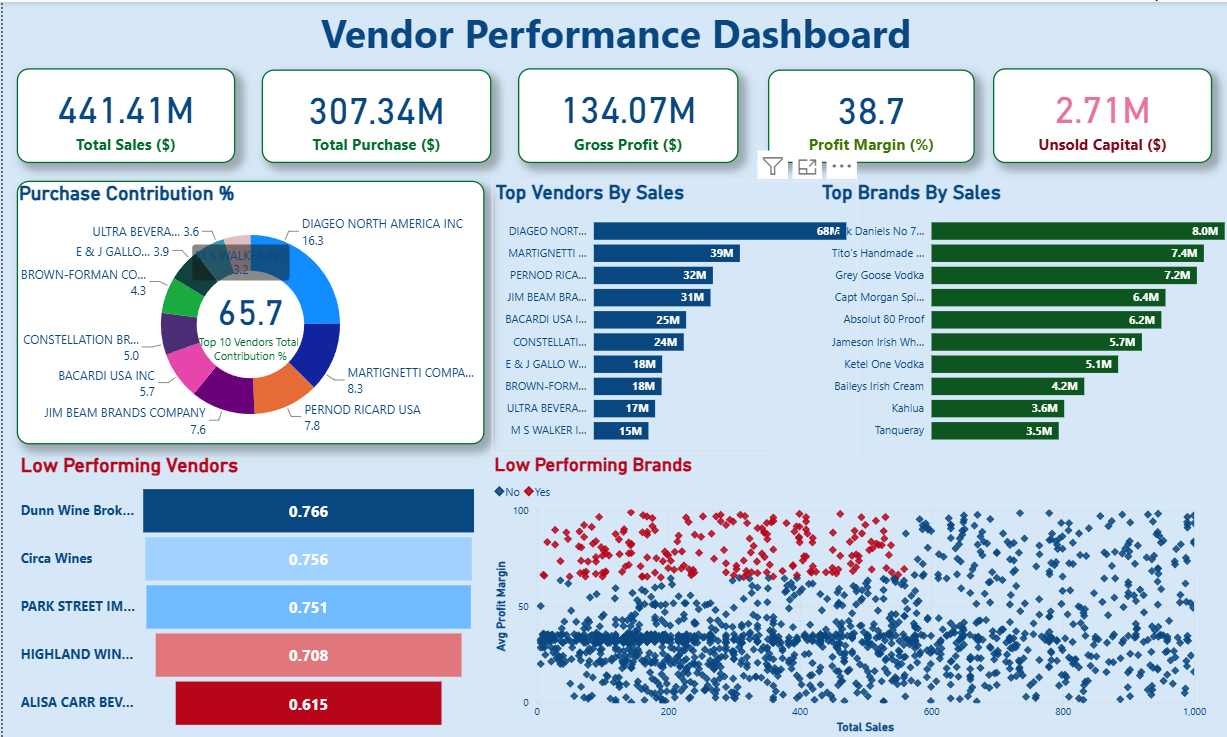

Layout of this report page (visuals, bound fields, positions):
{"tool":"powerbi","page":{"name":"Page 1","canvas":[1500,900],"ordinal":0},"visuals":[{"type":"card","fields":{"Values":["Sum(vendor_sales_summary.TotalPurchaseDollars)"]},"box":[315.8,82.4,280.9,114.6],"z":0},{"type":"card","fields":{"Values":["Sum(vendor_sales_summary.TotalSalesDollars)"]},"box":[16.8,81,266.9,116],"z":1000},{"type":"card","fields":{"Values":["Sum(vendor_sales_summary.GrossProfit)"]},"box":[630.2,81,269.7,116],"z":2000},{"type":"card","fields":{"Values":["Avg(vendor_sales_summary.ProfitMargin)"]},"box":[934.8,82.4,252.9,114.6],"z":3000},{"type":"card","fields":{"Values":["Sum(vendor_sales_summary.UnsoldCapital)"]},"box":[1210.1,81,268.3,116],"z":4000},{"type":"textbox","box":[0,0,1500,83],"z":5000},{"type":"donutChart","title":"Purchase Contribution % ","fields":{"Category":["PurchaseContribution.VendorName"],"Y":["Sum(PurchaseContribution.PurchaseContribution%)"]},"box":[16.8,218.6,571.7,322.5],"z":6000},{"type":"card","fields":{"Values":["Sum(PurchaseContribution.PurchaseContribution%)"]},"box":[221.6,278.2,162,210.9],"z":7000},{"type":"barChart","title":"Top Vendors By Sales","fields":{"Category":["vendor_sales_summary.VendorName"],"Y":["Sum(vendor_sales_summary.TotalSalesDollars)"]},"box":[597.3,219.2,447.9,332.9],"z":8000},{"type":"barChart","title":"Top Brands By Sales","fields":{"Category":["vendor_sales_summary.Description"],"Y":["Sum(vendor_sales_summary.TotalSalesDollars)"]},"box":[995.9,219.2,504.1,332.9],"z":9000},{"type":"funnel","title":"Low Performing Vendors","fields":{"Category":["LowTurnoverVendor.VendorName"],"Y":["Avg(LowTurnoverVendor.AvgStockTurnOver)"]},"box":[16.1,551.6,569.4,348.4],"z":10000},{"type":"scatterChart","title":"Low Performing Brands","fields":{"X":["Sum(BrandPerformance.TotalSales)"],"Y":["Sum(BrandPerformance.AvgProfitMargin)"],"Series":["BrandPerformance.TargetBrand"],"Category":["BrandPerformance.Description"]},"box":[596.8,551.6,880.6,348.4],"z":11000}]}

Visuals, with their boxes in screenshot pixels (x1, y1, x2, y2), scaled from the page's 1500x900 canvas onto the 1227x737 screenshot:
card - Sum(vendor_sales_summary.TotalPurchaseDollars): [258, 67, 488, 161]
card - Sum(vendor_sales_summary.TotalSalesDollars): [14, 66, 232, 161]
card - Sum(vendor_sales_summary.GrossProfit): [516, 66, 736, 161]
card - Avg(vendor_sales_summary.ProfitMargin): [765, 67, 972, 161]
card - Sum(vendor_sales_summary.UnsoldCapital): [990, 66, 1209, 161]
textbox: [0, 0, 1226, 68]
"Purchase Contribution % " donutChart: [14, 179, 481, 443]
card - Sum(PurchaseContribution.PurchaseContribution%): [181, 228, 314, 401]
"Top Vendors By Sales" barChart: [489, 180, 855, 452]
"Top Brands By Sales" barChart: [815, 180, 1226, 452]
"Low Performing Vendors" funnel: [13, 452, 479, 736]
"Low Performing Brands" scatterChart: [488, 452, 1209, 736]
